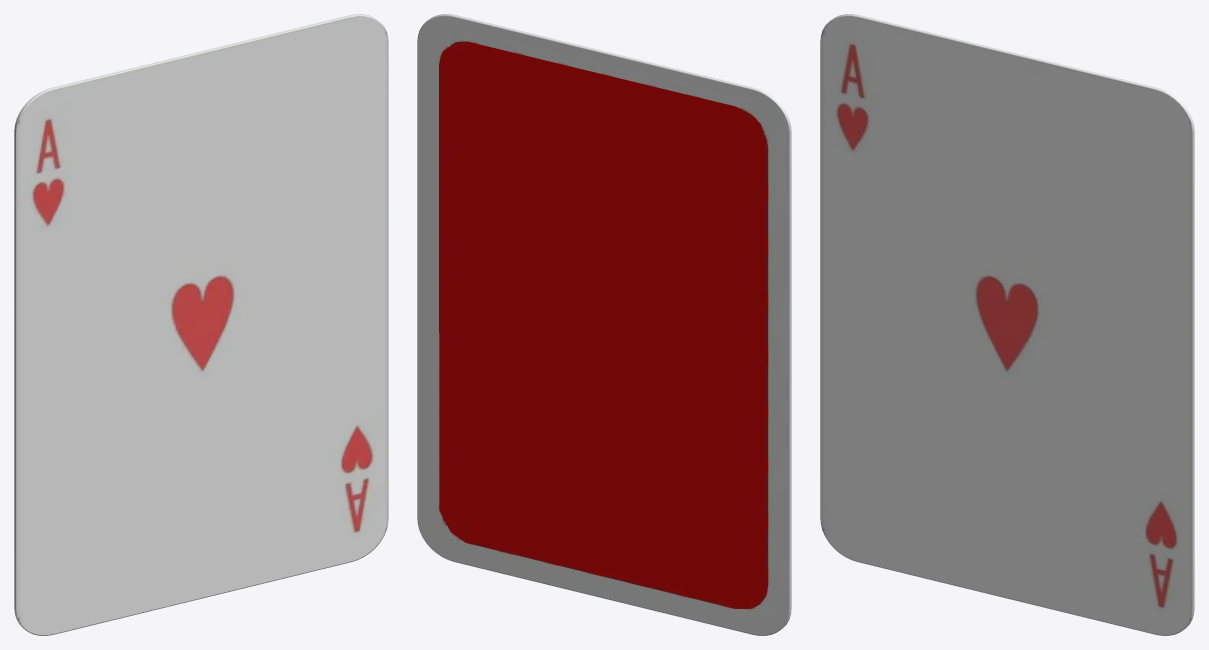
Rendered from hearts_1.glb.
The picture shows the model from 3 angles, left to right: view 1: azimuth 30°, elevation 25°; view 2: azimuth 150°, elevation 25°; view 3: azimuth 330°, elevation 25°; orthographic projection.
Visible parts, largest first — view 1: defaultMaterial.047; view 2: defaultMaterial.047; view 3: defaultMaterial.047.
Boxes of the visible parts, x1,y1,x2,y2 form: defaultMaterial.047: [14, 14, 388, 635]; defaultMaterial.047: [417, 14, 791, 635]; defaultMaterial.047: [820, 14, 1194, 635].
Size of the model in its own units: 0.1408 by 0.1972 by 0.00111.
1 material, 1 textured.
